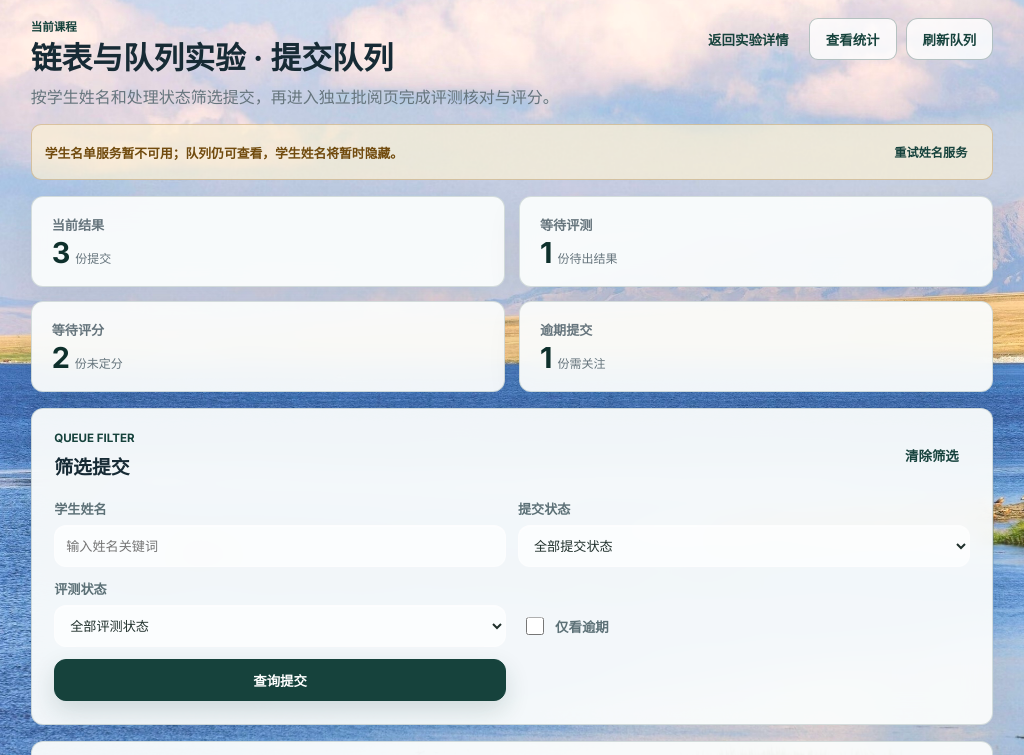
Test: LabSubmissionWorkspaceView › keeps the queue usable when student names fail and never exposes a student identifier
Expected: the message with test id "student-name-warning" shows "学生名单服务暂不可用", [45, 146, 403, 161]
Click the button "重试姓名服务".
click(931, 152)  # box [882, 135, 979, 169]
(page scrolled)
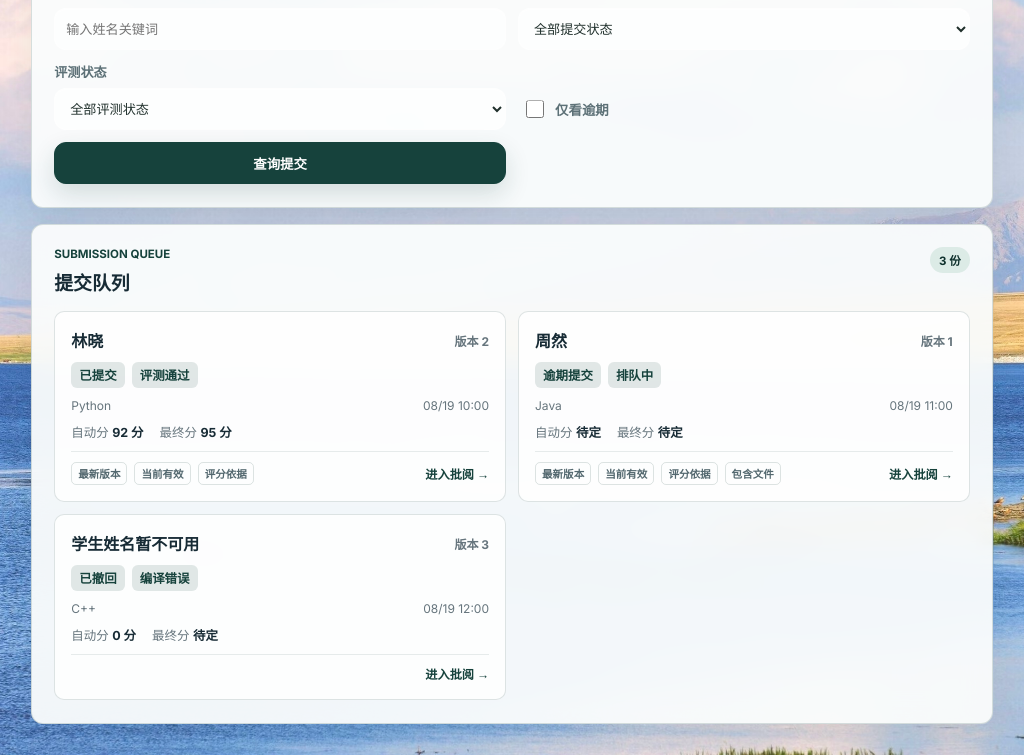
Expected: the list item that starts with "版本 2" shows "林晓", [71, 331, 103, 351]
